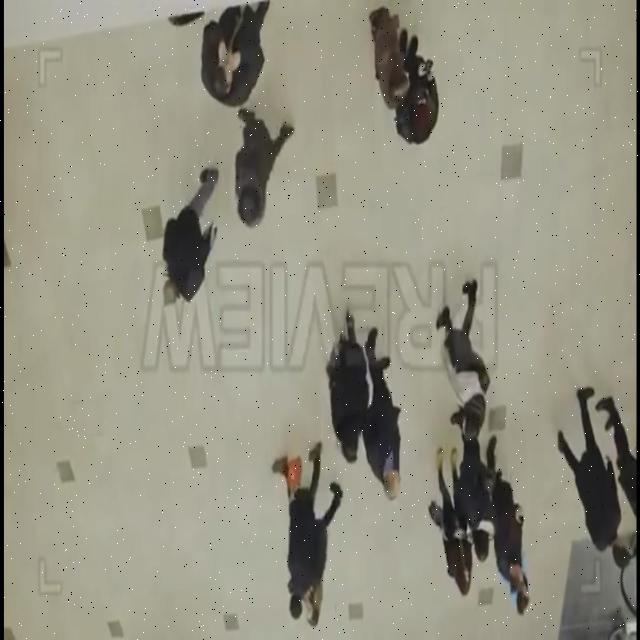humans: (557, 381, 633, 568), (434, 274, 493, 446), (270, 445, 326, 619), (158, 163, 220, 316), (232, 104, 294, 238), (194, 2, 271, 104), (366, 322, 405, 502), (431, 442, 474, 599), (592, 396, 640, 536), (324, 309, 366, 465), (302, 478, 343, 630), (486, 446, 527, 594), (454, 439, 501, 564), (367, 6, 412, 103), (400, 46, 440, 146), (512, 572, 532, 622)
